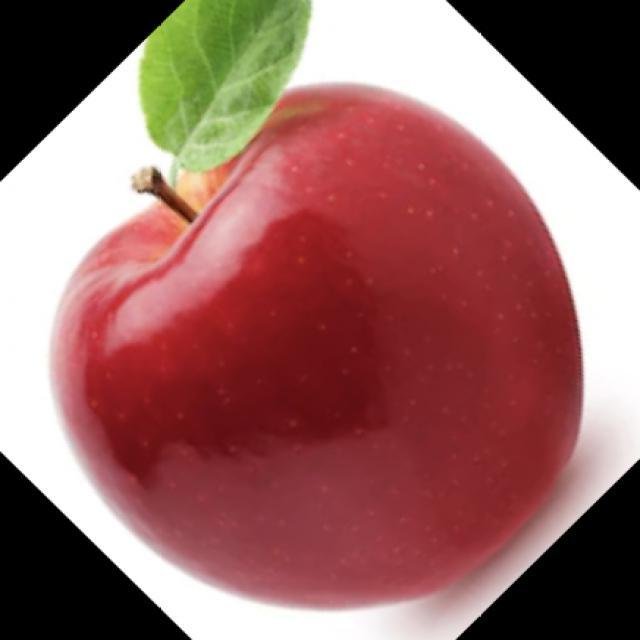Fresh Apple: (100, 99, 577, 598)
